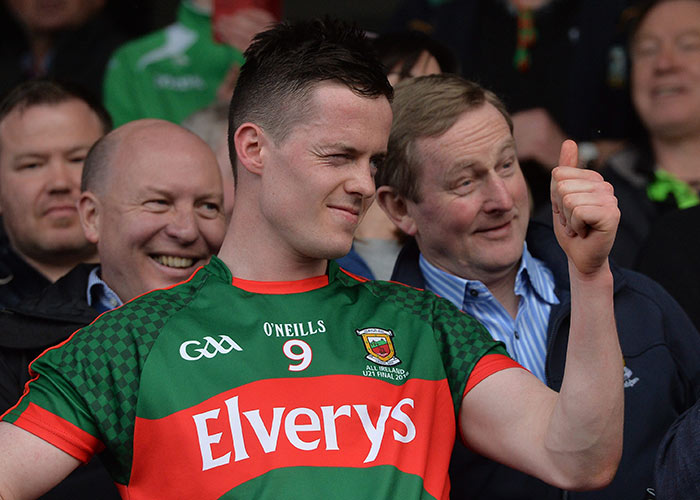player: (158, 25, 469, 478), (385, 72, 686, 443), (50, 104, 267, 380)
